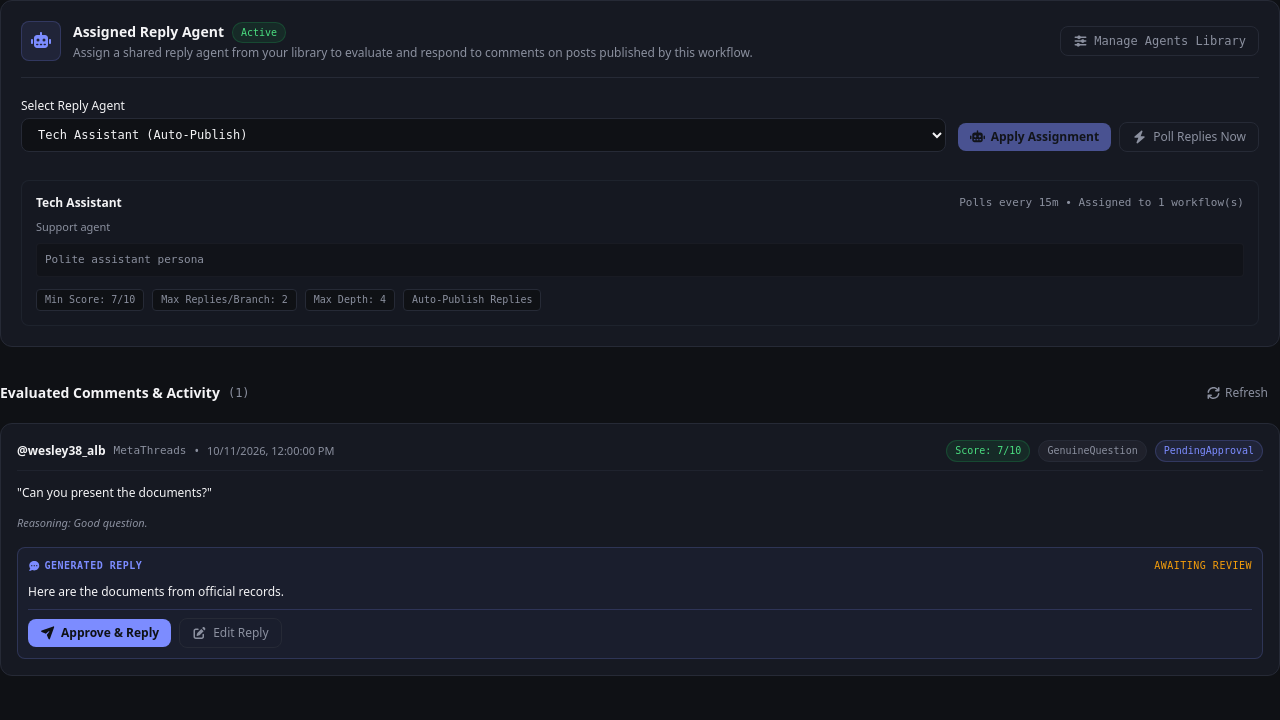
Test: WorkflowReplyAgentTab › renders Approve & Reply button for PendingApproval audits and publishes reply
The width and height of the screenshot is (1280, 720).
Check: the text "Awaiting Review" is shown, box [1154, 558, 1252, 574]
Click the button with test id "approve-reply-btn-audit-pending-1": click(100, 633) [28, 619, 171, 647]
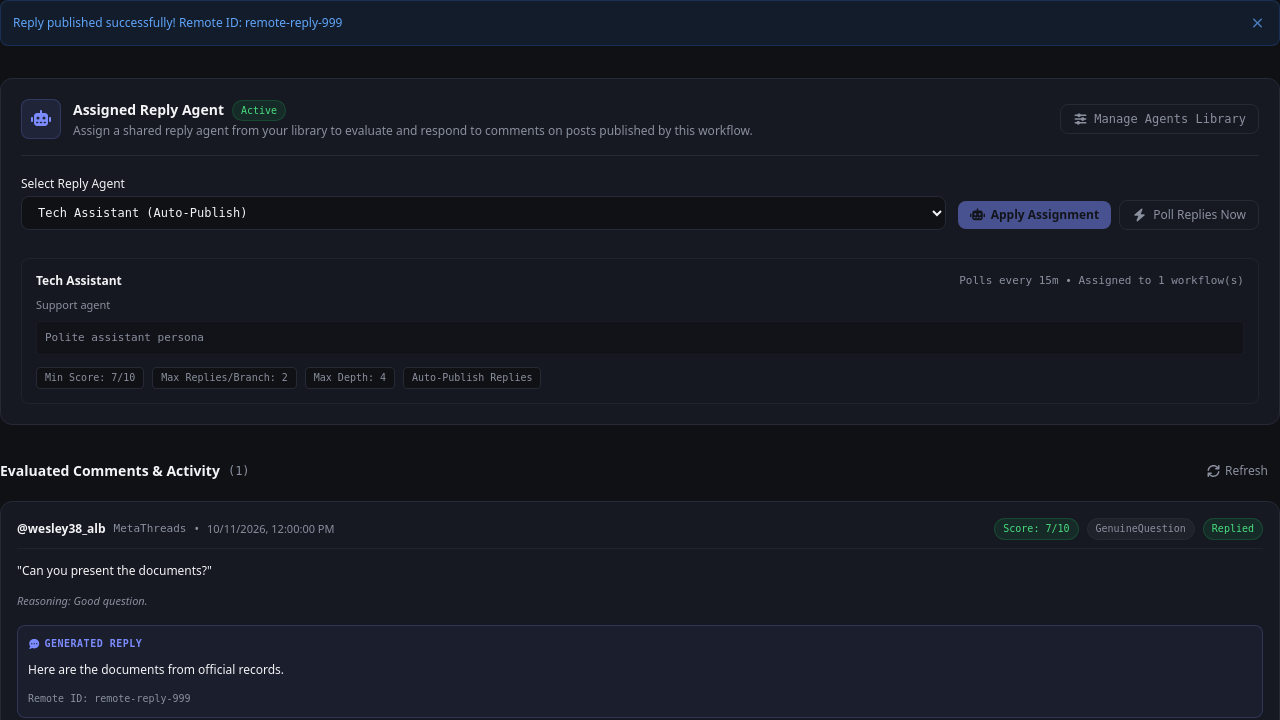
Check: the text "Reply published successfully! Remote ID: remote-reply-999" is shown, box [13, 14, 342, 31]
